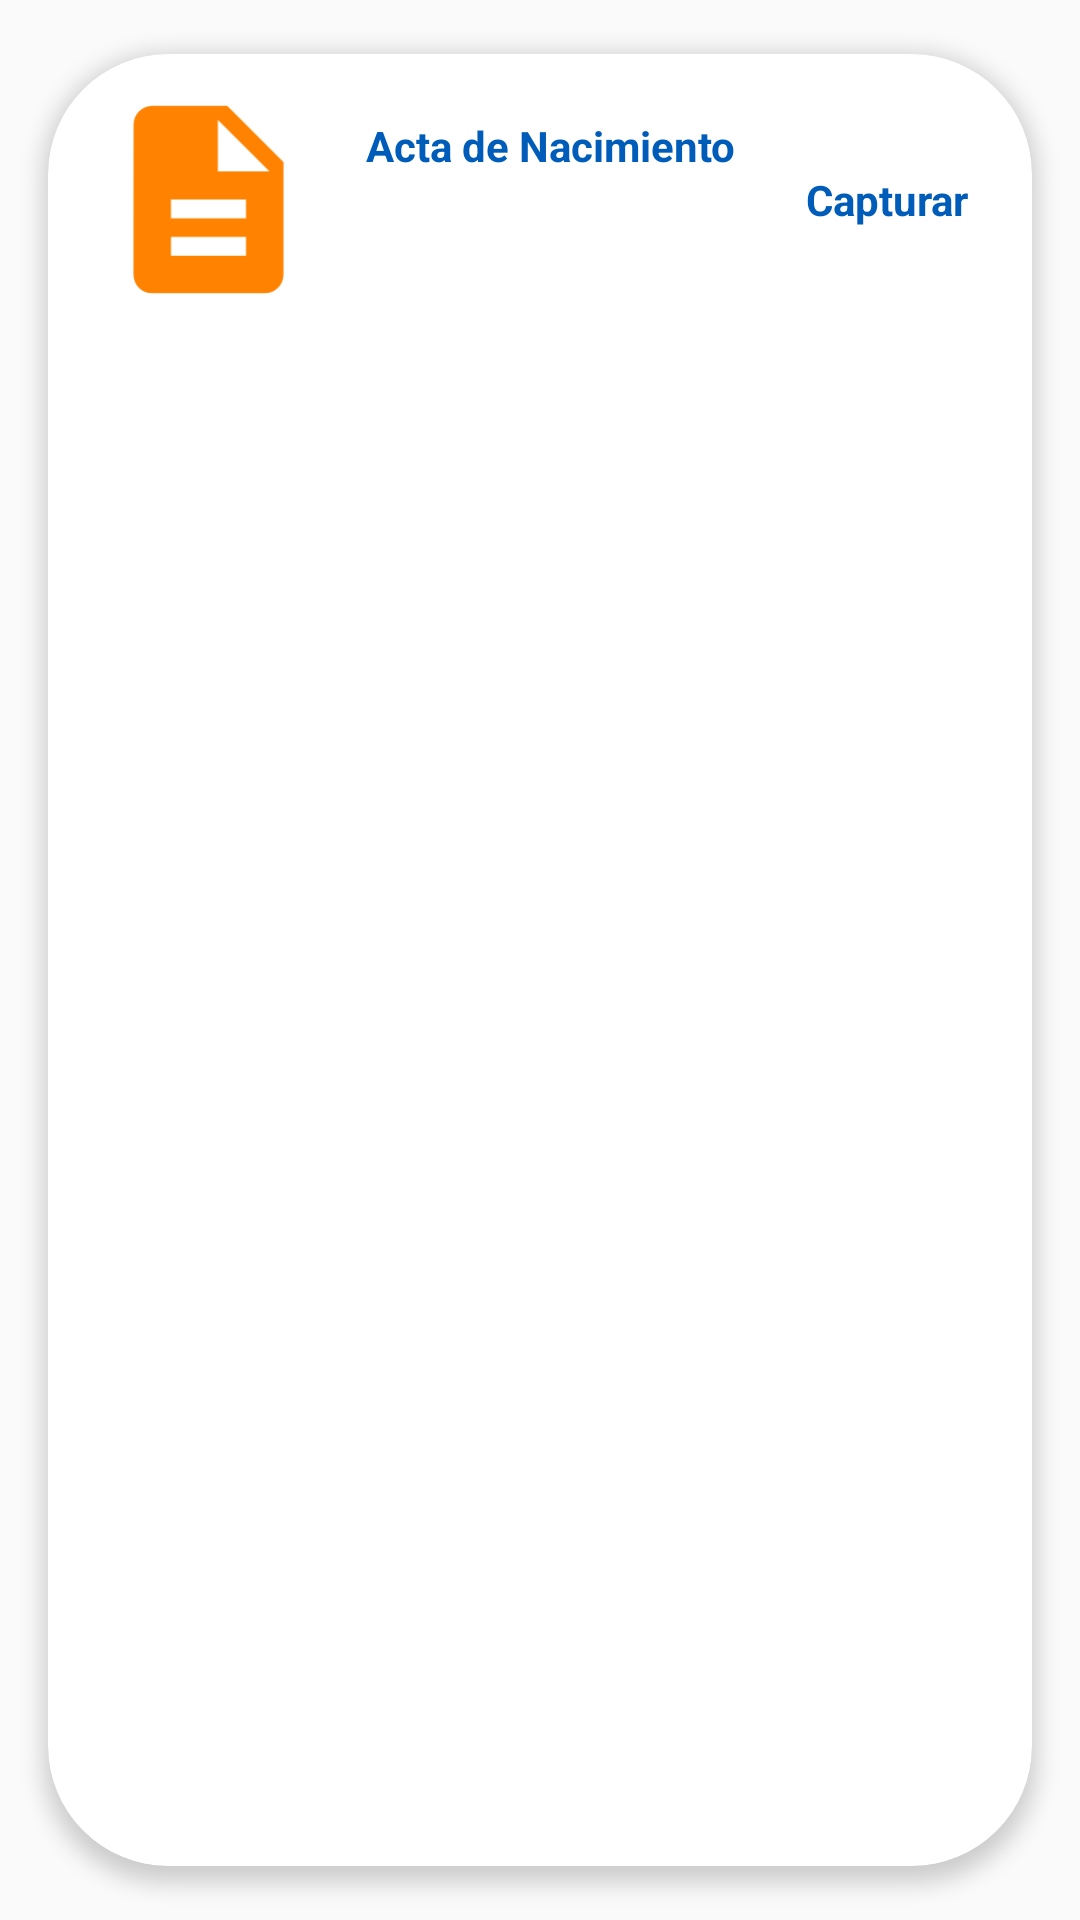

Icon click points for this 1080 x 1920 phone screenshot, format (x=x, y=y):
documento: (x=208, y=199)
